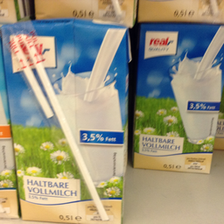milk: (4, 21, 127, 224), (134, 24, 224, 174)
